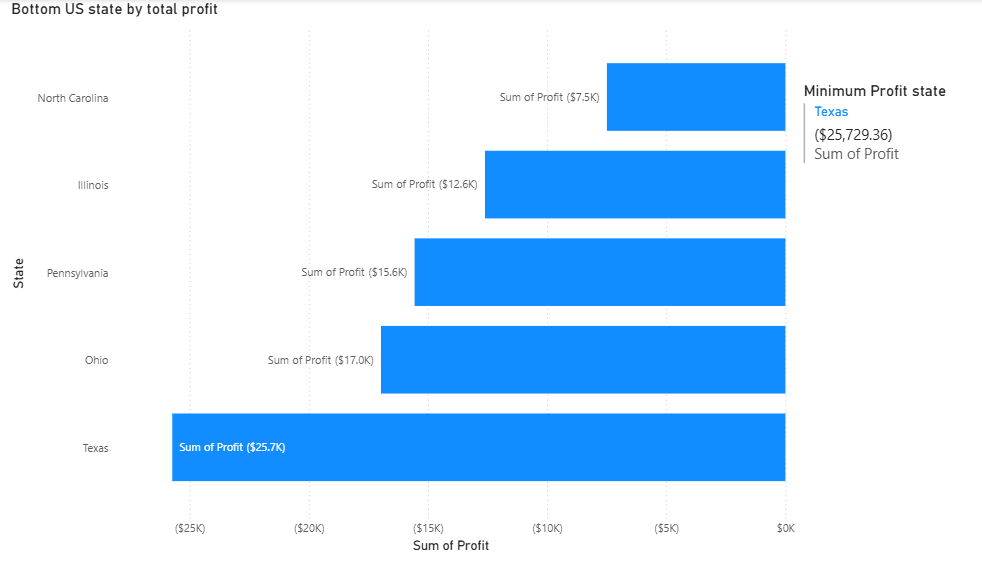

What the dashboard file says about the page in this screenshot:
{"tool":"powerbi","page":{"name":"Question 4","canvas":[1280,720],"ordinal":3},"visuals":[{"type":"clusteredBarChart","title":"Bottom US state by total profit","fields":{"Category":["Orders.State"],"Y":["Sum(Orders.Profit)"]},"box":[9.6,0,870,613.4],"z":0},{"type":"multiRowCard","title":"Minimum Profit state","fields":{"Values":["Sum(Orders.Profit)","Orders.State"]},"box":[879.6,90.6,389.7,100.2],"z":1000}]}

Visuals, with their boxes on the page's 1280x720 design canvas (x1, y1, x2, y2). These are canvas units, not pixel positions in the 982x587 screenshot, which may show the page scaled, cropped or inside an application window:
"Bottom US state by total profit" clusteredBarChart: pyautogui.locateOnScreen(10, 0, 880, 613)
"Minimum Profit state" multiRowCard: pyautogui.locateOnScreen(880, 91, 1269, 191)
